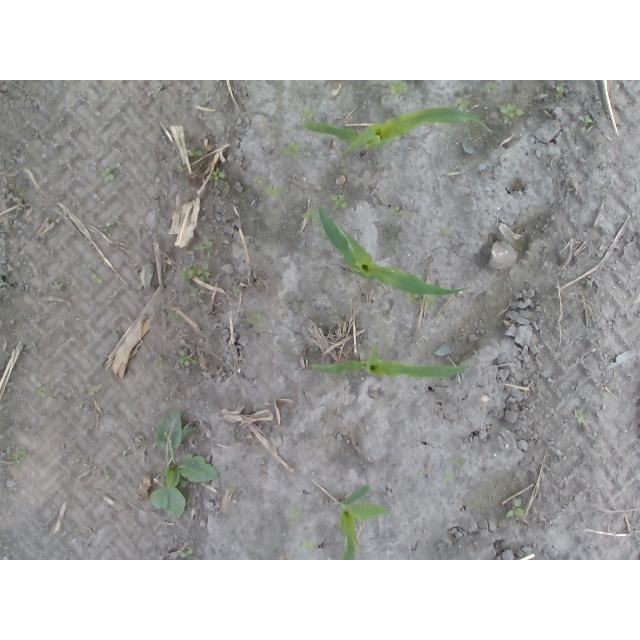Maize: (318, 204, 475, 296), (297, 107, 496, 156), (311, 342, 474, 379), (339, 484, 393, 561)
Weeds: (151, 412, 221, 521), (182, 261, 215, 283), (5, 444, 31, 468), (505, 498, 527, 523), (75, 383, 104, 400), (176, 350, 198, 371), (500, 103, 524, 122), (100, 166, 120, 184), (195, 235, 213, 254), (283, 141, 302, 159), (578, 113, 594, 134), (388, 80, 408, 96), (302, 209, 319, 227), (210, 168, 226, 187), (454, 97, 474, 112), (288, 505, 304, 523), (573, 407, 587, 427), (264, 184, 284, 197), (247, 312, 263, 328), (486, 81, 503, 96), (332, 195, 349, 209), (189, 286, 204, 301), (230, 283, 243, 299), (303, 538, 318, 550), (556, 82, 567, 98), (153, 355, 165, 369), (444, 471, 454, 485), (179, 548, 193, 558), (35, 384, 45, 398), (91, 274, 102, 286), (393, 207, 406, 217), (188, 149, 201, 159), (455, 457, 466, 468), (106, 222, 116, 234), (171, 314, 183, 323), (51, 282, 61, 291), (227, 484, 237, 493), (113, 330, 120, 342), (439, 229, 449, 236), (334, 307, 338, 321)
